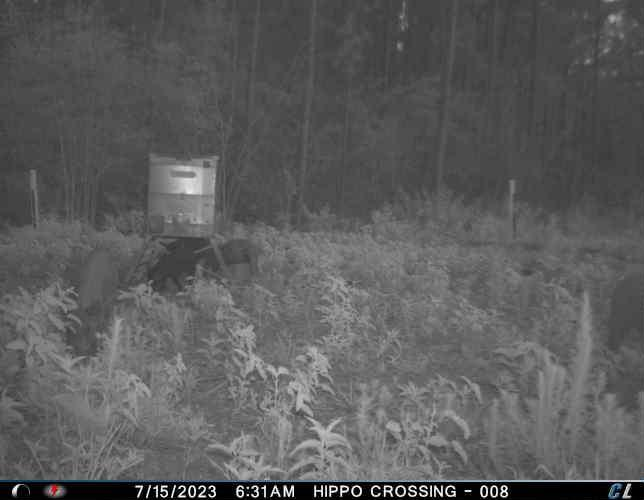Hog: (69, 246, 121, 348), (604, 270, 644, 354), (148, 249, 203, 294), (213, 238, 261, 280), (163, 237, 213, 254)
